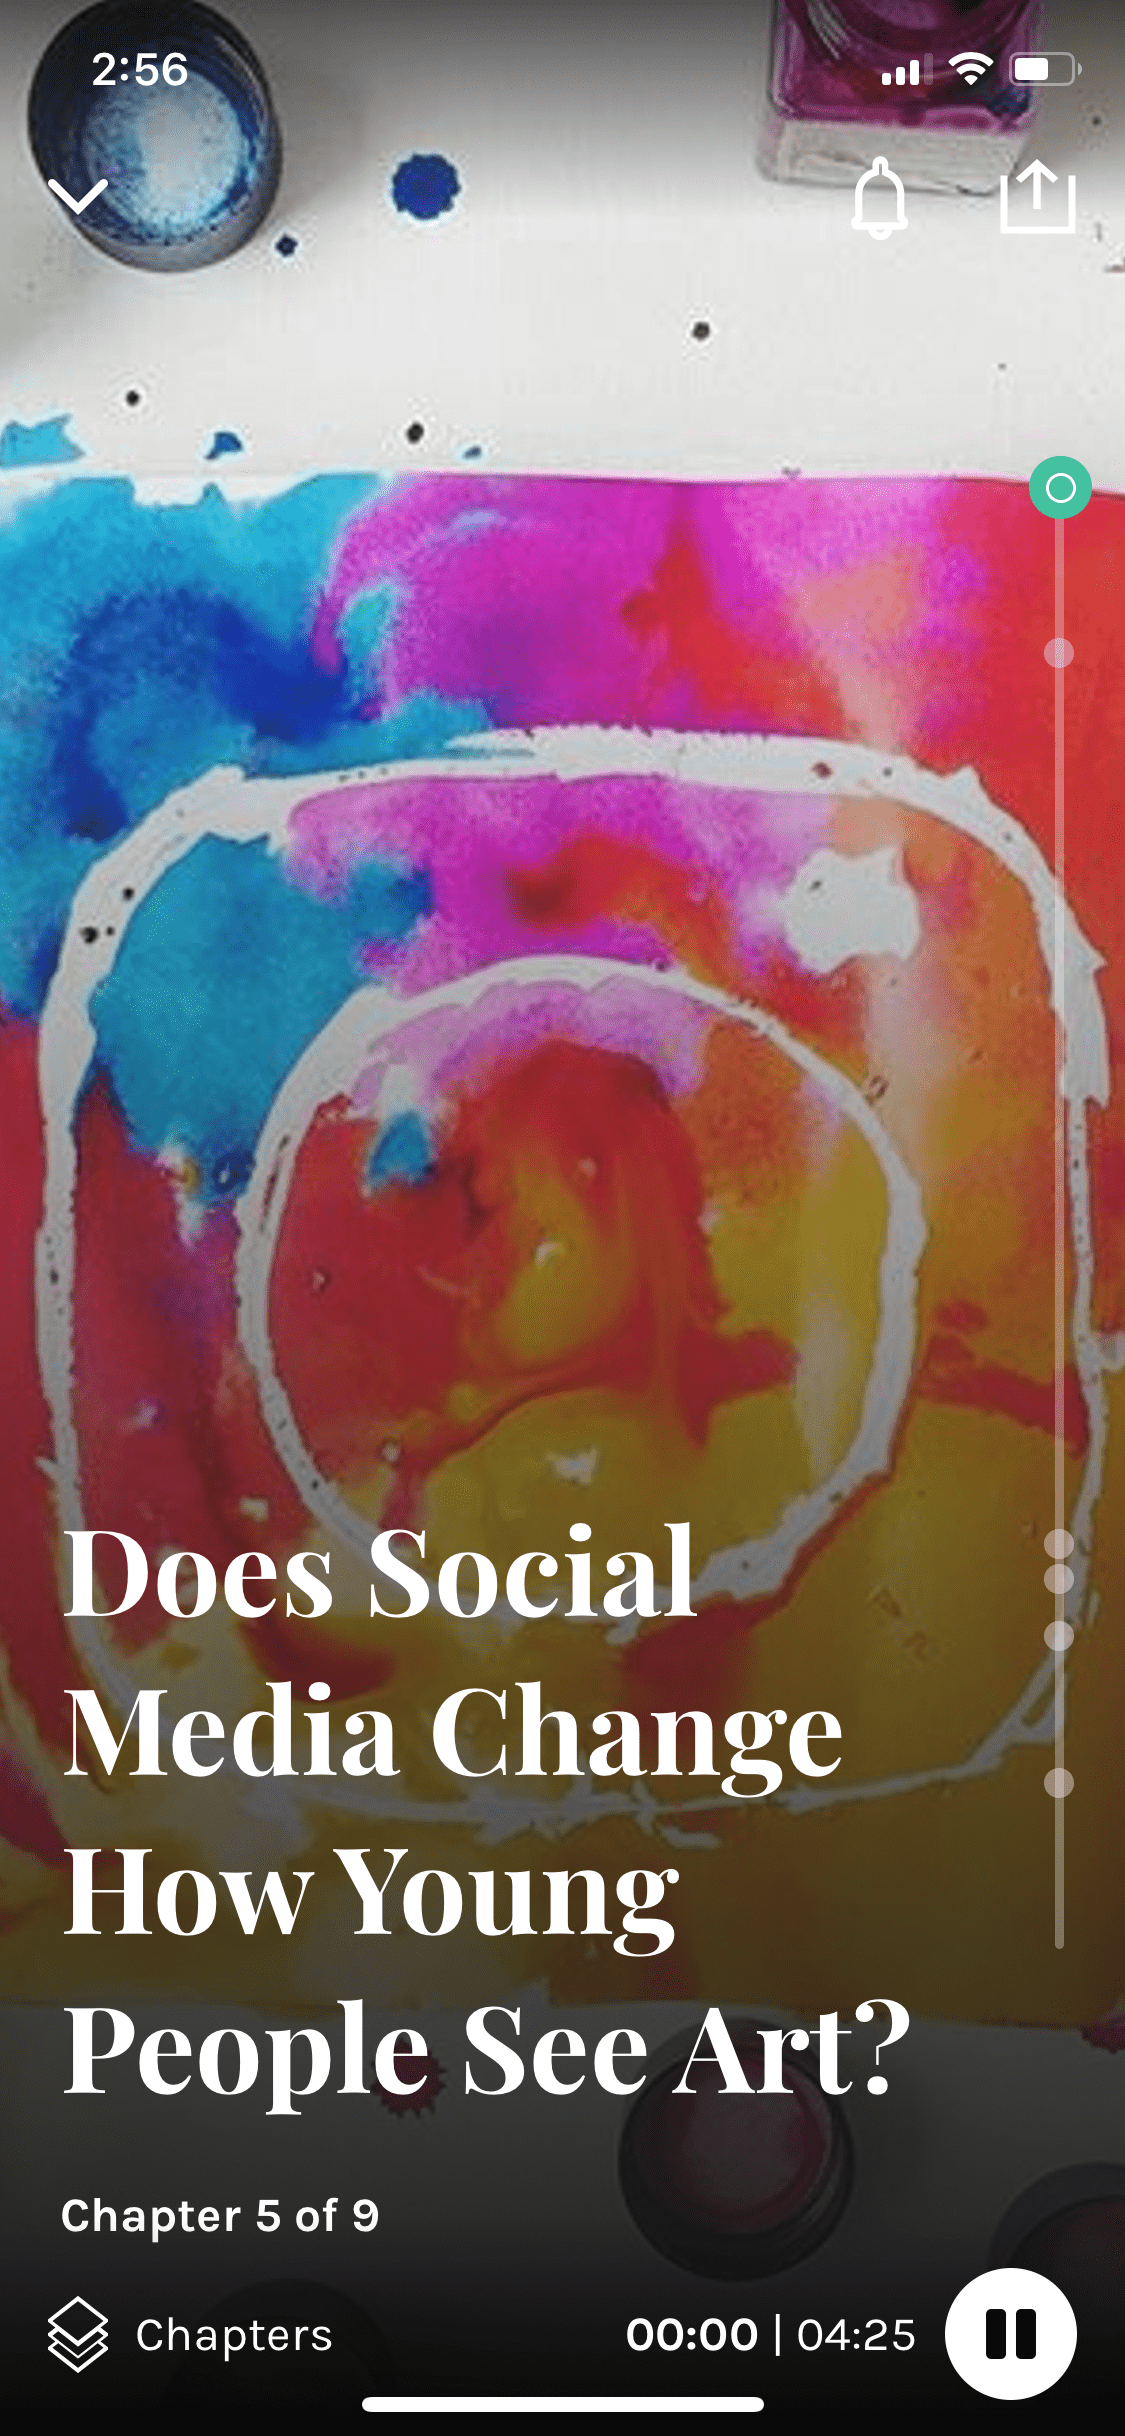Buttons: (19, 2271, 374, 2394), (928, 2254, 1089, 2413), (797, 137, 948, 275), (976, 137, 1103, 277), (20, 127, 141, 249)
